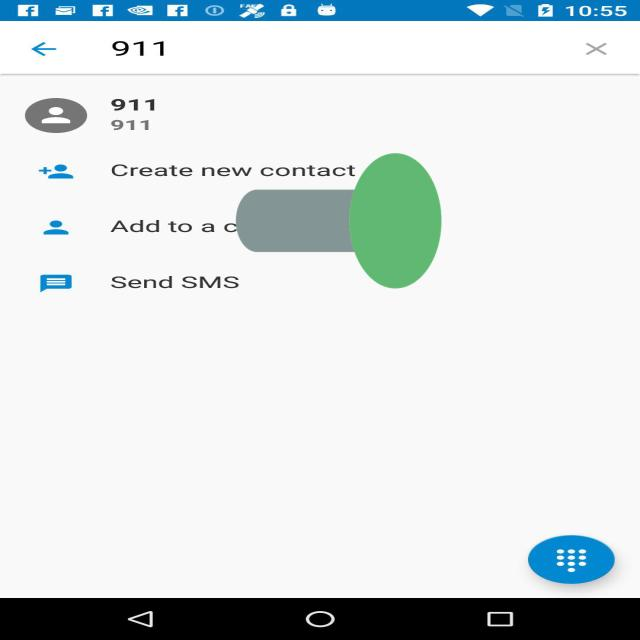social proof: (236, 70, 441, 372)
